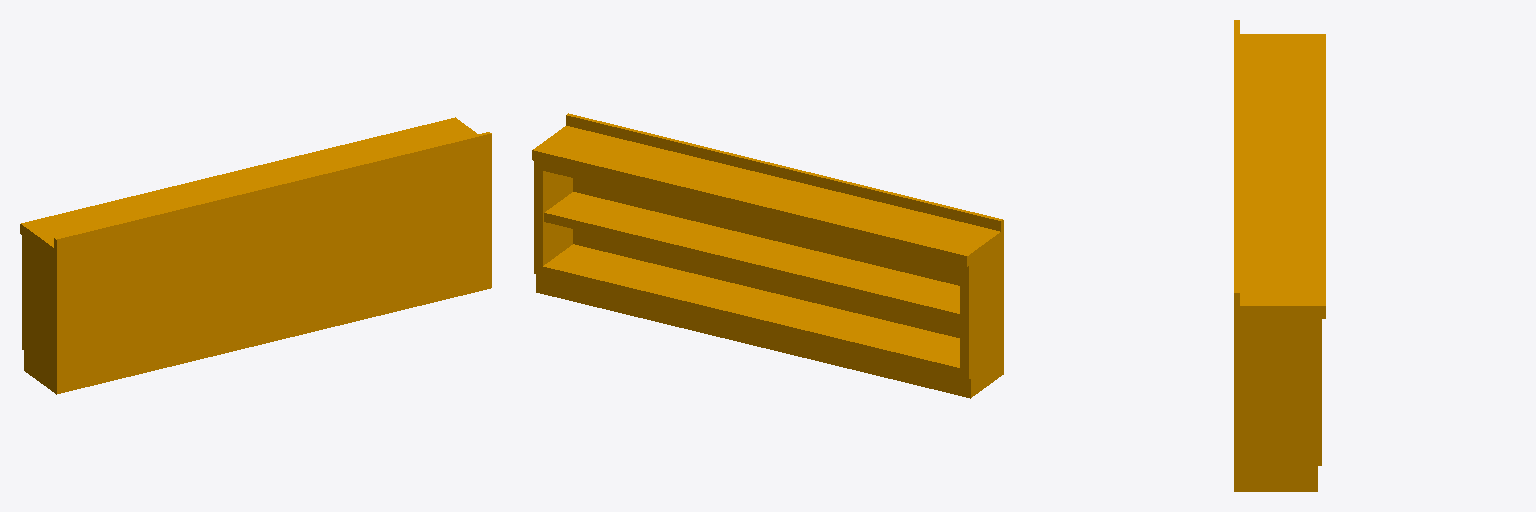
The robot description file, URDF, robot "countertop":
<?xml version="1.0"?>
<robot name="countertop">
  <link name="kitchencabinet">
    <inertial>
        <origin rpy="0 0 0" xyz="0 0 0"/>
        <mass value="30.0"/>
        <inertia ixx="2e-2" ixy="0" ixz="0" iyy="2e-2" iyz="0" izz="2e-2"/>
    </inertial>
    <visual>
      <geometry>
        <mesh filename="kitchencabinet_visual.obj"/>
      </geometry>
    </visual>
    <collision>
      <geometry>
        <mesh filename="kitchencabinet_collision.obj"/>
      </geometry>
      <surface>
           <bounce restitution_coefficient = "0.1"/>
      </surface>
    </collision>
  </link>
</robot>

--- Render facts (derived) ---
3 views of the same robot in one strip: view 1: azimuth 30°, elevation 25°; view 2: azimuth 150°, elevation 25°; view 3: azimuth 270°, elevation 25° (orthographic).
Model countertop with 1 links and 0 joints (none), rooted at kitchencabinet, posed every joint at zero.
Links seen in each view (by area): view 1: kitchencabinet; view 2: kitchencabinet; view 3: kitchencabinet.
Link boxes in pixels (x1,y1,x2,y2): kitchencabinet: [20, 117, 491, 394]; kitchencabinet: [532, 113, 1003, 398]; kitchencabinet: [1234, 20, 1325, 491].
Size in the robot's own frame: 6.27 by 0.9 by 2.13 metres.
Meshes: 1 distinct files referenced, 1 mesh visuals loaded (1 OBJ).
